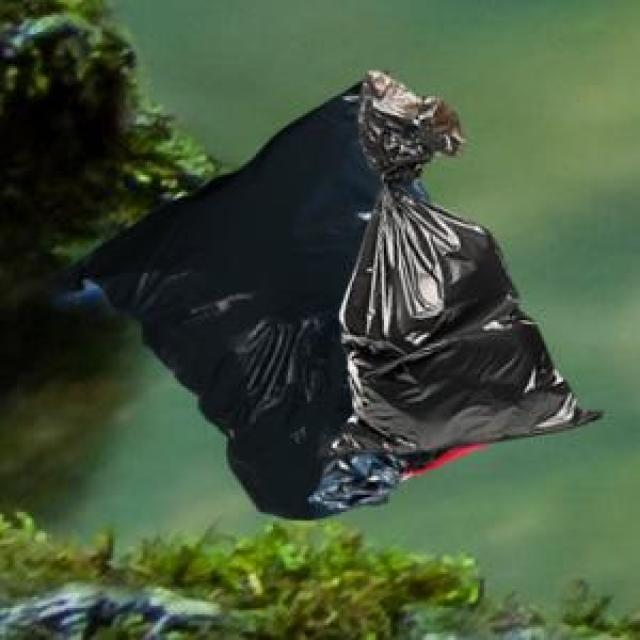garbage_bag: (49, 66, 603, 520)
